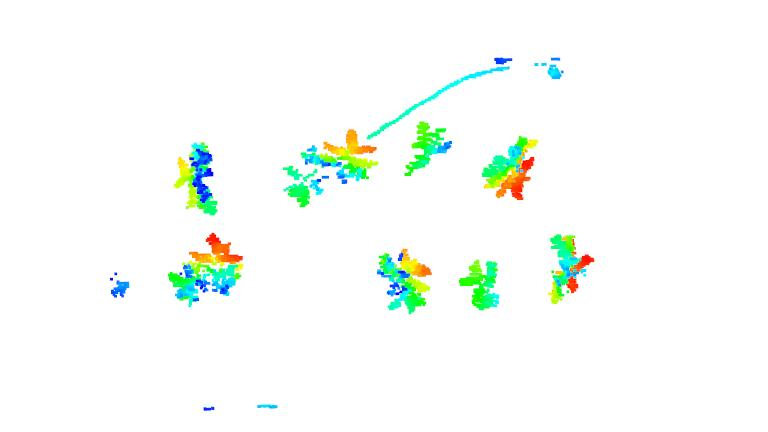chickpea: (283, 127, 375, 210), (164, 234, 246, 306), (480, 133, 540, 205), (375, 248, 436, 316), (173, 140, 224, 216), (546, 233, 596, 302), (400, 119, 456, 178), (458, 258, 504, 312)
